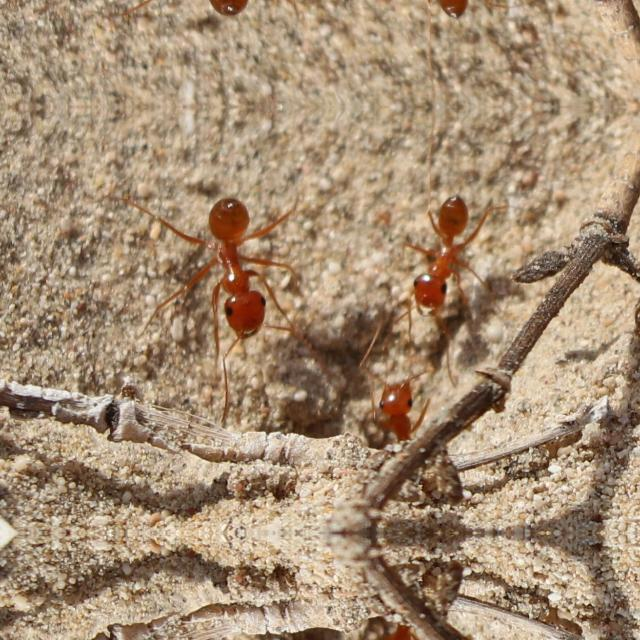Cataglyphis: (136, 178, 312, 356), (343, 359, 501, 516), (380, 185, 508, 323), (343, 548, 501, 640)
